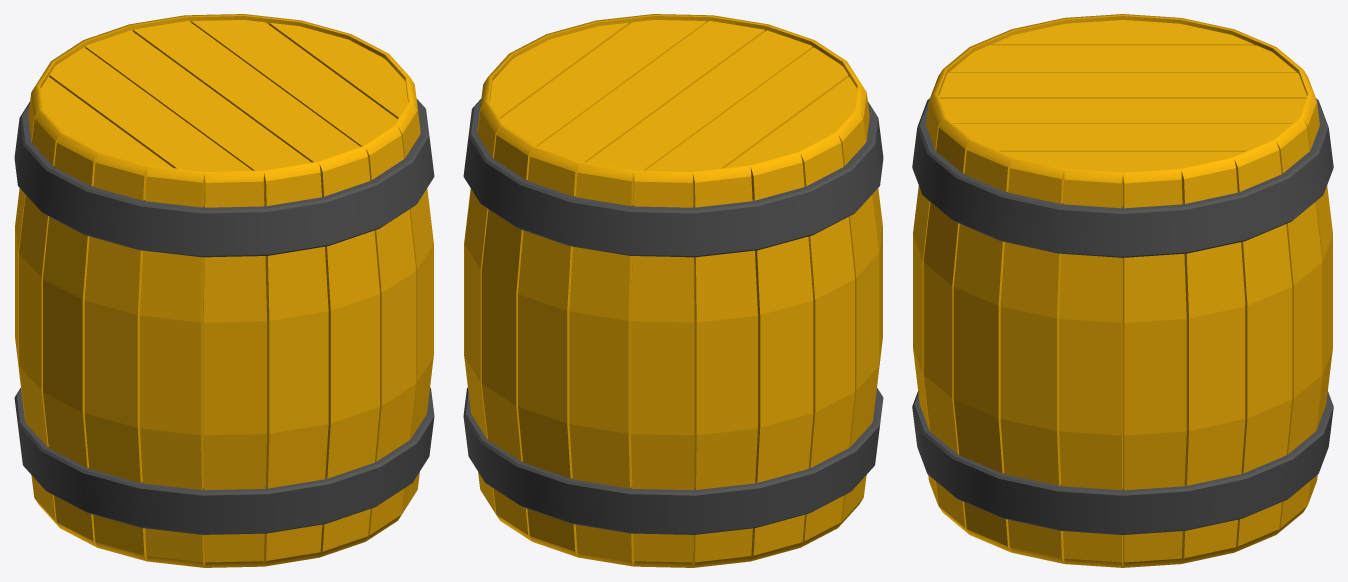
The model's file is Barrel.fbx.
The picture shows the model from 3 angles, left to right: view 1: azimuth 30°, elevation 25°; view 2: azimuth 150°, elevation 25°; view 3: azimuth 270°, elevation 25°; orthographic projection.
Parts seen in each view (by area): view 1: pCylinder1, pCylinder2, pCylinder3, pCube6, pCube3, pCube7, pCube4, pCube8, pCube5; view 2: pCylinder1, pCylinder2, pCylinder3, pCube6, pCube3, pCube7, pCube4, pCube8, pCube5; view 3: pCylinder1, pCylinder2, pCylinder3, pCube3, pCube6, pCube4, pCube7, pCube5, pCube8.
Part boxes in pixels (x1=…): pCylinder1: x1=15, y1=14, x2=433, y2=567; pCylinder2: x1=14, y1=99, x2=434, y2=257; pCylinder3: x1=14, y1=387, x2=434, y2=534; pCube6: x1=133, y1=21, x2=360, y2=162; pCube3: x1=85, y1=30, x2=311, y2=170; pCube7: x1=191, y1=20, x2=397, y2=146; pCube4: x1=49, y1=47, x2=251, y2=171; pCube8: x1=269, y1=22, x2=408, y2=118; pCube5: x1=40, y1=76, x2=172, y2=167; pCylinder1: x1=464, y1=14, x2=882, y2=567; pCylinder2: x1=463, y1=99, x2=883, y2=257; pCylinder3: x1=463, y1=387, x2=883, y2=534; pCube6: x1=537, y1=21, x2=764, y2=162; pCube3: x1=586, y1=30, x2=812, y2=170; pCube7: x1=500, y1=20, x2=706, y2=146; pCube4: x1=646, y1=47, x2=848, y2=171; pCube8: x1=489, y1=22, x2=628, y2=118; pCube5: x1=725, y1=76, x2=857, y2=167; pCylinder1: x1=913, y1=14, x2=1332, y2=567; pCylinder2: x1=912, y1=98, x2=1333, y2=257; pCylinder3: x1=912, y1=391, x2=1333, y2=534; pCube3: x1=939, y1=72, x2=1306, y2=98; pCube6: x1=940, y1=98, x2=1305, y2=123; pCube4: x1=949, y1=45, x2=1296, y2=72; pCube7: x1=954, y1=124, x2=1291, y2=151; pCube5: x1=992, y1=20, x2=1253, y2=45; pCube8: x1=1001, y1=151, x2=1244, y2=172.
Size of the model in its own units: 101 by 104 by 101.
